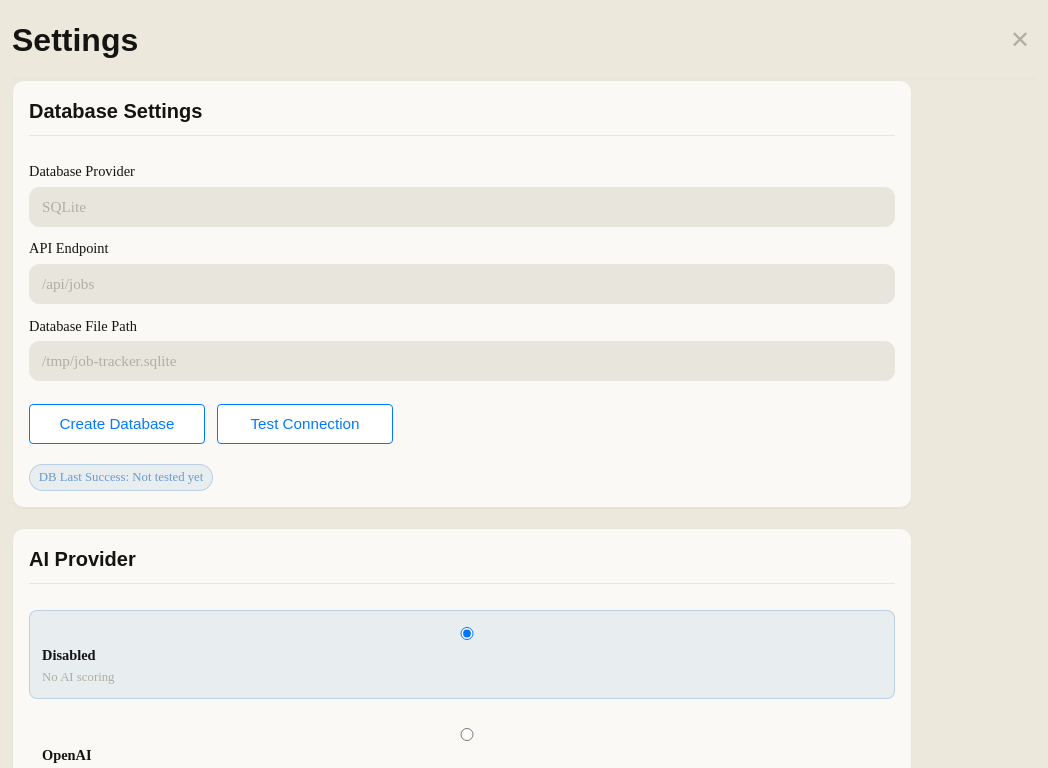
Scenario: SettingsView › runs database test connection action
Click the button "Test Connection": {"x": 305, "y": 424} top-left (217, 404), bottom-right (393, 444)
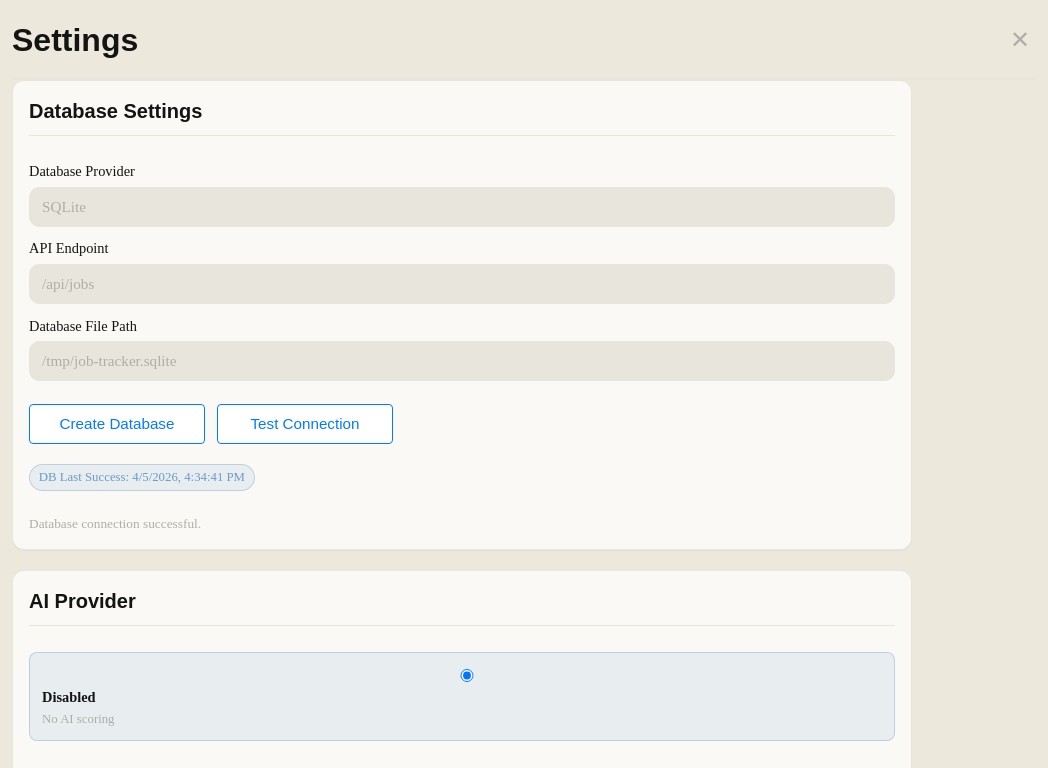
Expected: the text "Database connection successful." is shown, top-left (29, 516), bottom-right (201, 531)
